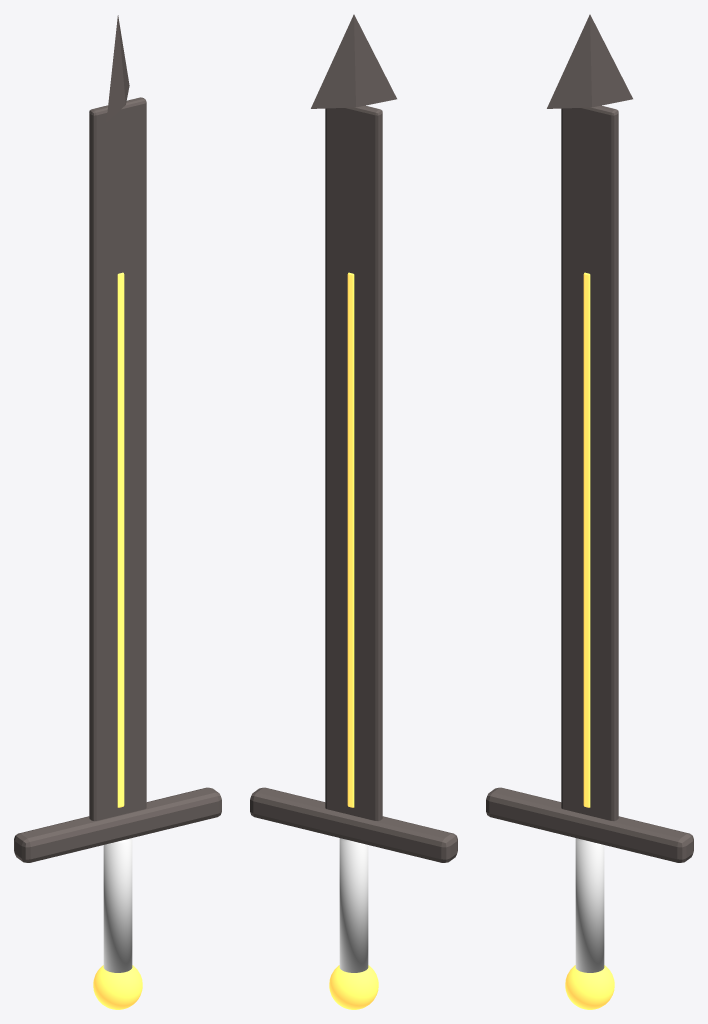
The model's file is kilic_3.glb.
3 views of the same model, side by side, from view 1: azimuth 30°, elevation 25°; view 2: azimuth 150°, elevation 25°; view 3: azimuth 330°, elevation 25° (orthographic).
Parts seen in each view (by area): view 1: Cube, Cube.002, Cube.001, Cone.001, Sphere, Cone; view 2: Cube, Cube.002, Cube.001, Cone, Cone.001, Sphere; view 3: Cube, Cube.002, Cube.001, Cone, Cone.001, Sphere.
Boxes of the visible parts, <box> form: Cube: <box>89,97,146,820</box>; Cube.002: <box>14,787,221,862</box>; Cube.001: <box>117,272,124,807</box>; Cone.001: <box>103,838,132,972</box>; Sphere: <box>93,965,142,1009</box>; Cone: <box>106,15,129,121</box>; Cube: <box>325,105,382,820</box>; Cube.002: <box>250,787,457,862</box>; Cube.001: <box>347,272,354,807</box>; Cone: <box>311,14,396,108</box>; Cone.001: <box>339,838,368,972</box>; Sphere: <box>329,965,378,1009</box>; Cube: <box>561,105,618,820</box>; Cube.002: <box>486,787,693,862</box>; Cube.001: <box>583,272,590,807</box>; Cone: <box>547,14,632,108</box>; Cone.001: <box>575,838,604,972</box>; Sphere: <box>565,965,614,1009</box>.
Size of the model in its own units: 0.51 by 2.42 by 0.1406.
